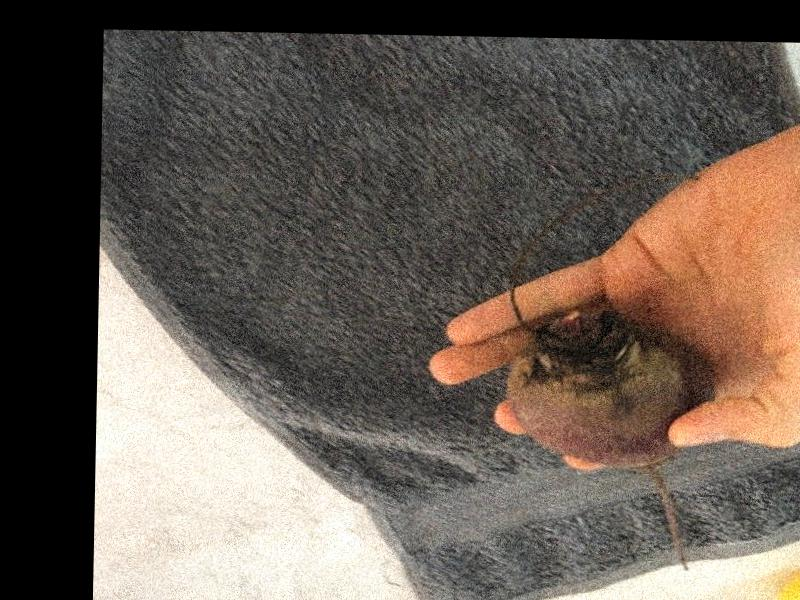Beet: (506, 301, 716, 570)
